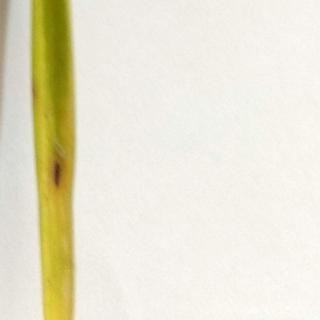bercak-Cokelat: (43, 157, 67, 192)
